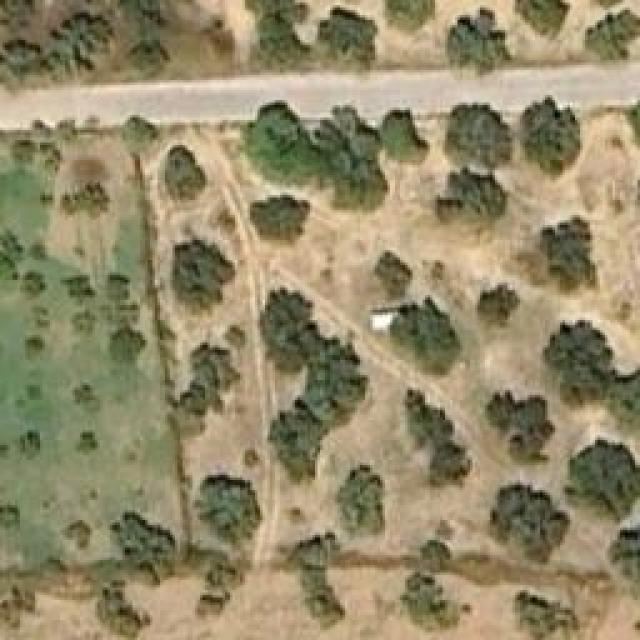Tree: (542, 320, 640, 440), (323, 100, 388, 203), (562, 440, 640, 523), (490, 485, 570, 565), (408, 388, 468, 488), (248, 100, 318, 183), (390, 295, 460, 375), (485, 390, 558, 465), (195, 472, 263, 550), (290, 538, 345, 631), (263, 401, 325, 478), (115, 515, 183, 583), (523, 98, 583, 173), (445, 103, 513, 168), (437, 168, 507, 231), (173, 240, 233, 313), (263, 288, 316, 368), (448, 8, 513, 71), (245, 0, 313, 60), (543, 218, 596, 291), (335, 465, 385, 540), (318, 8, 378, 68), (185, 345, 235, 415), (50, 10, 113, 63), (515, 590, 580, 640), (95, 580, 145, 640), (585, 10, 640, 60), (405, 575, 455, 630), (250, 198, 310, 241), (385, 105, 428, 163), (165, 145, 208, 203), (515, 0, 572, 42), (0, 40, 45, 90), (610, 515, 640, 583), (375, 250, 413, 300), (125, 35, 175, 73), (103, 323, 148, 363), (62, 183, 110, 218), (385, 0, 435, 32), (478, 285, 518, 325), (120, 115, 158, 155), (418, 540, 451, 573), (60, 275, 95, 305), (195, 590, 230, 620), (8, 138, 38, 168), (18, 265, 43, 300), (72, 383, 100, 413), (65, 520, 93, 550), (208, 560, 238, 588), (107, 270, 135, 298), (18, 430, 41, 458), (225, 322, 248, 350), (23, 335, 48, 360), (25, 383, 48, 406), (240, 448, 262, 471), (0, 505, 20, 528), (78, 432, 98, 450)
